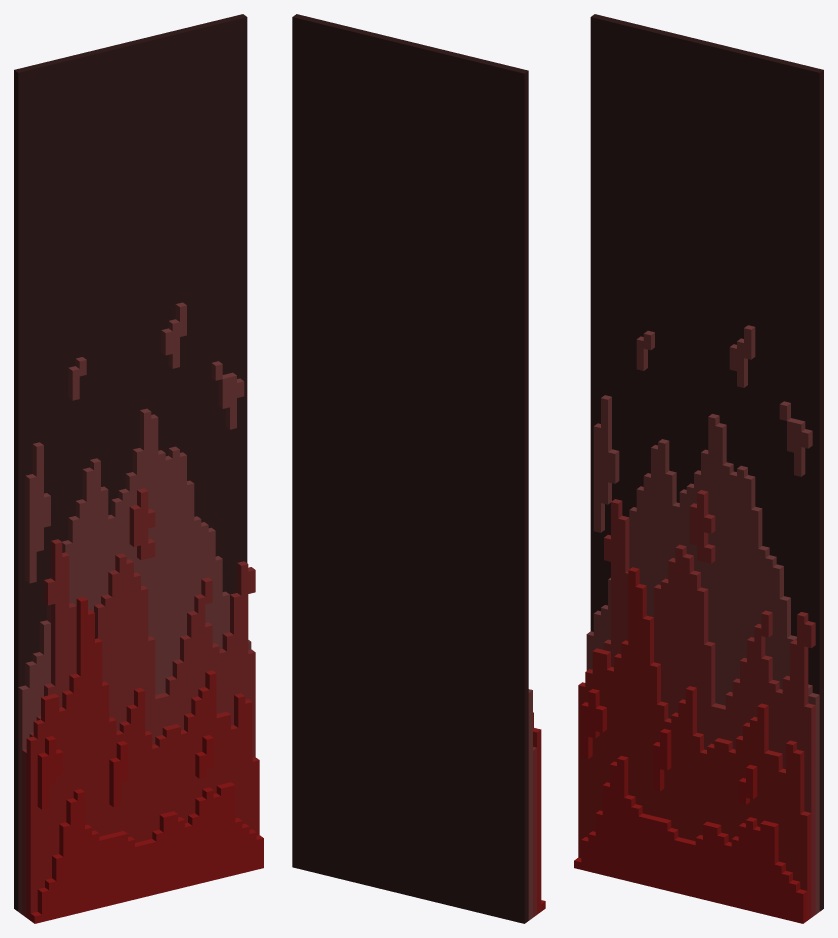
Rendered from scene_fire.glb.
3 renders of one model, left to right at view 1: azimuth 30°, elevation 25°; view 2: azimuth 150°, elevation 25°; view 3: azimuth 330°, elevation 25°, orthographic.
Visible parts, largest first — view 1: scene_fire_32, scene_fire_31, scene_fire_29, scene_fire_30, scene_fire_28; view 2: scene_fire_32, scene_fire_31, scene_fire_29, scene_fire_30; view 3: scene_fire_32, scene_fire_31, scene_fire_29, scene_fire_30, scene_fire_28.
Boxes of the visible parts, x1,y1,x2,y2 form: scene_fire_32: (14, 14, 247, 911); scene_fire_31: (18, 302, 251, 914); scene_fire_29: (26, 597, 259, 920); scene_fire_30: (22, 488, 255, 917); scene_fire_28: (30, 735, 263, 923); scene_fire_32: (292, 14, 528, 923); scene_fire_31: (528, 689, 532, 920); scene_fire_29: (533, 712, 541, 914); scene_fire_30: (533, 747, 536, 917); scene_fire_32: (590, 14, 823, 911); scene_fire_31: (586, 325, 819, 914); scene_fire_29: (578, 567, 811, 920); scene_fire_30: (604, 490, 815, 917); scene_fire_28: (574, 689, 807, 923).
Bounding box in the file's own units: 3.2 × 11.2 × 0.5.
1 material, 1 textured.
